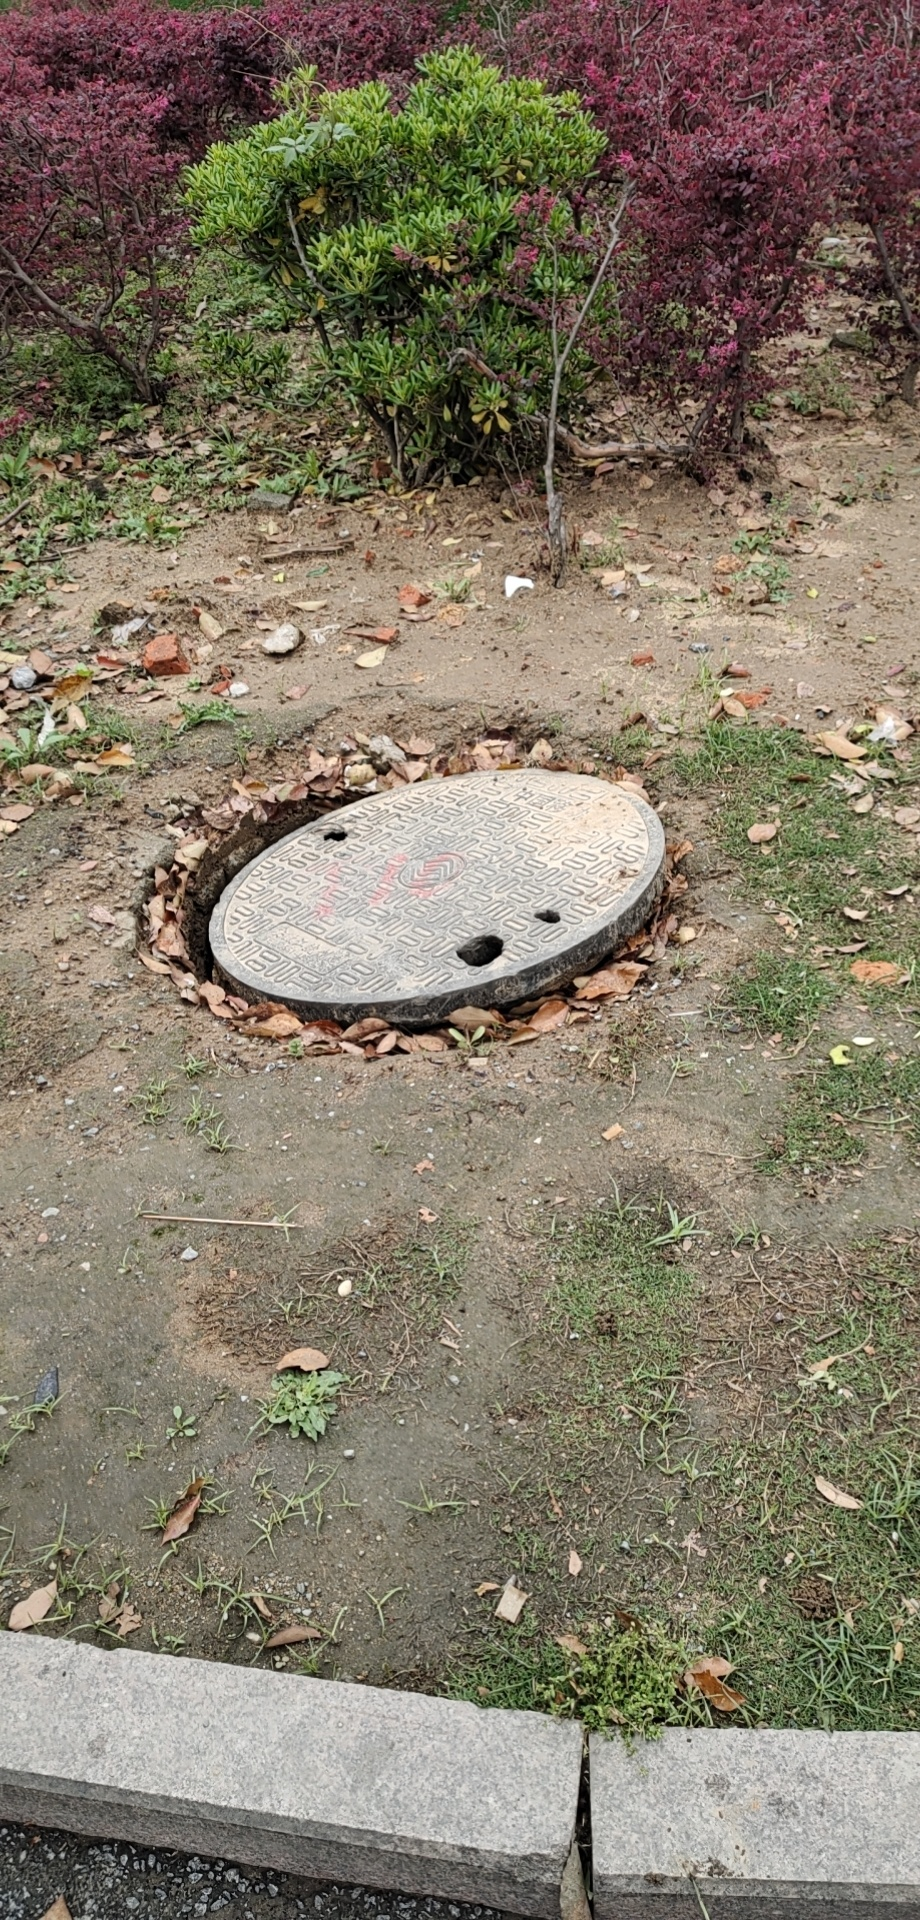uncovered: (146, 765, 679, 1033)
